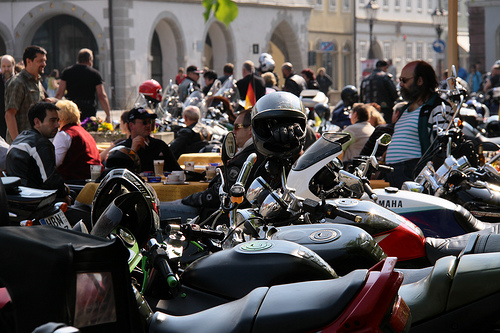helmet: (246, 98, 314, 150)
